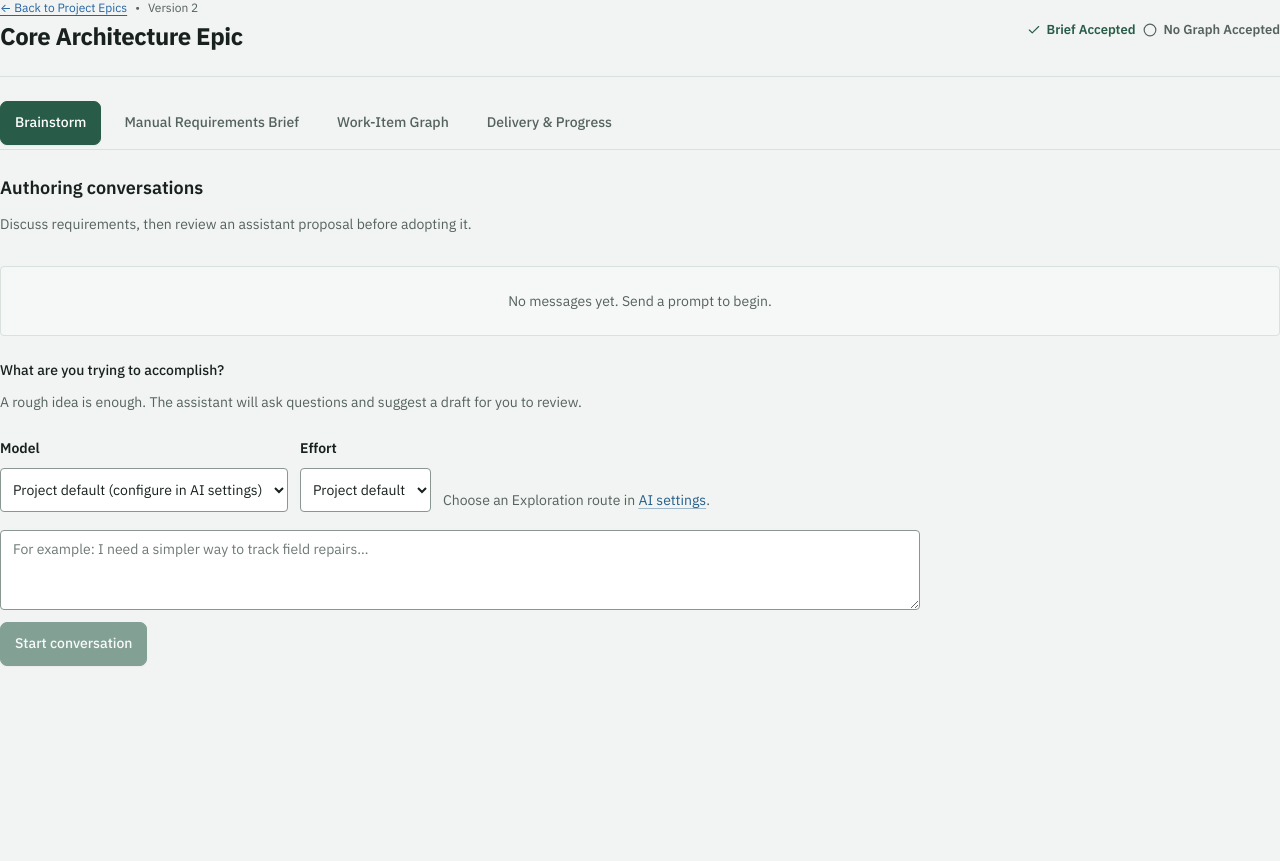
it: Epics App Pages › /epics/[epicId] displays epic details and allows switching between workspace sections
expect the heading "Core Architecture Epic" is shown: met, box 0,20 -> 243,52
expect the button "Manual Requirements Brief" is shown: met, box 109,101 -> 314,145
// Switch to Work-Item Graph tab
Click the button "Work-Item Graph".
click(393, 123)  # box 322,101 -> 464,145
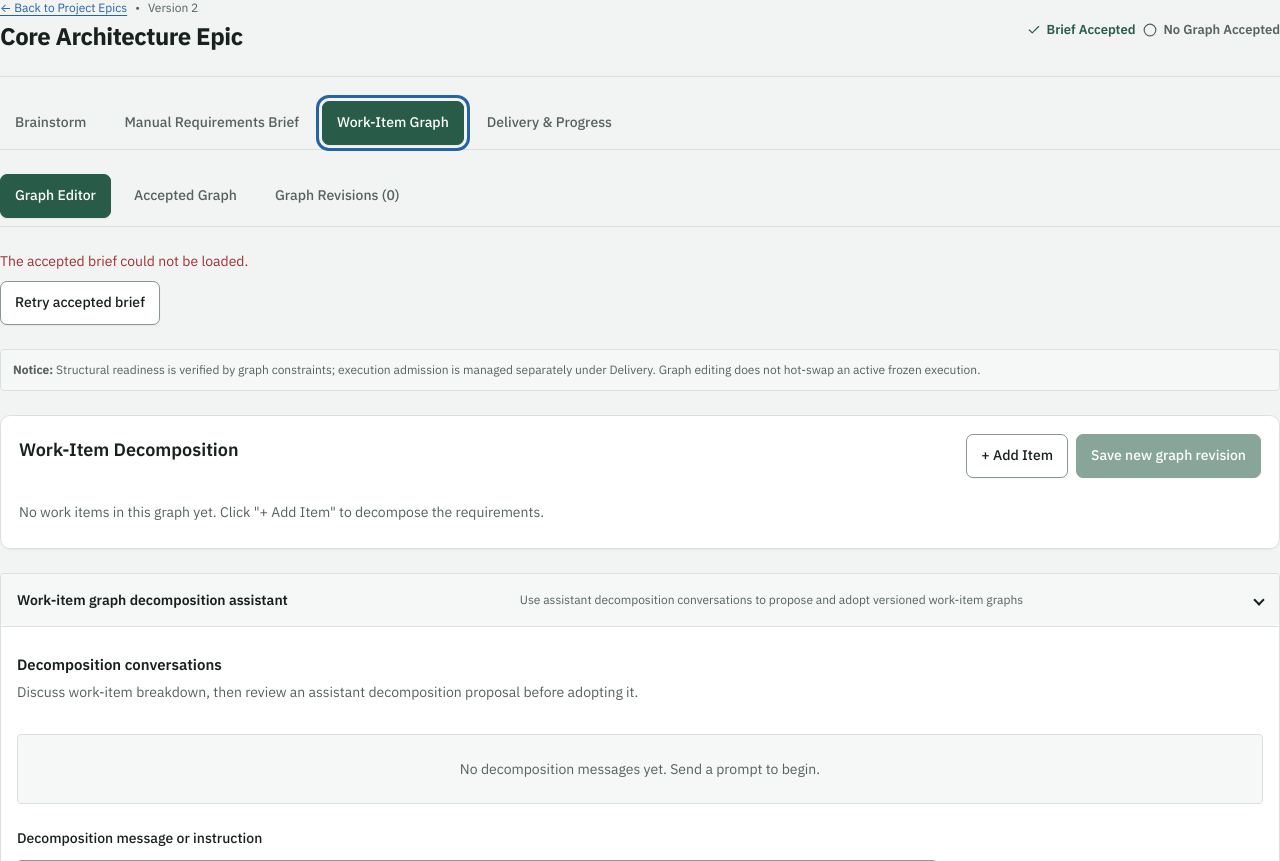
expect the heading "Work-Item Decomposition" is shown: met, box 19,436 -> 238,464
// Switch to Delivery & Progress tab
Click the button "Delivery & Progress".
click(549, 123)  # box 472,101 -> 627,145
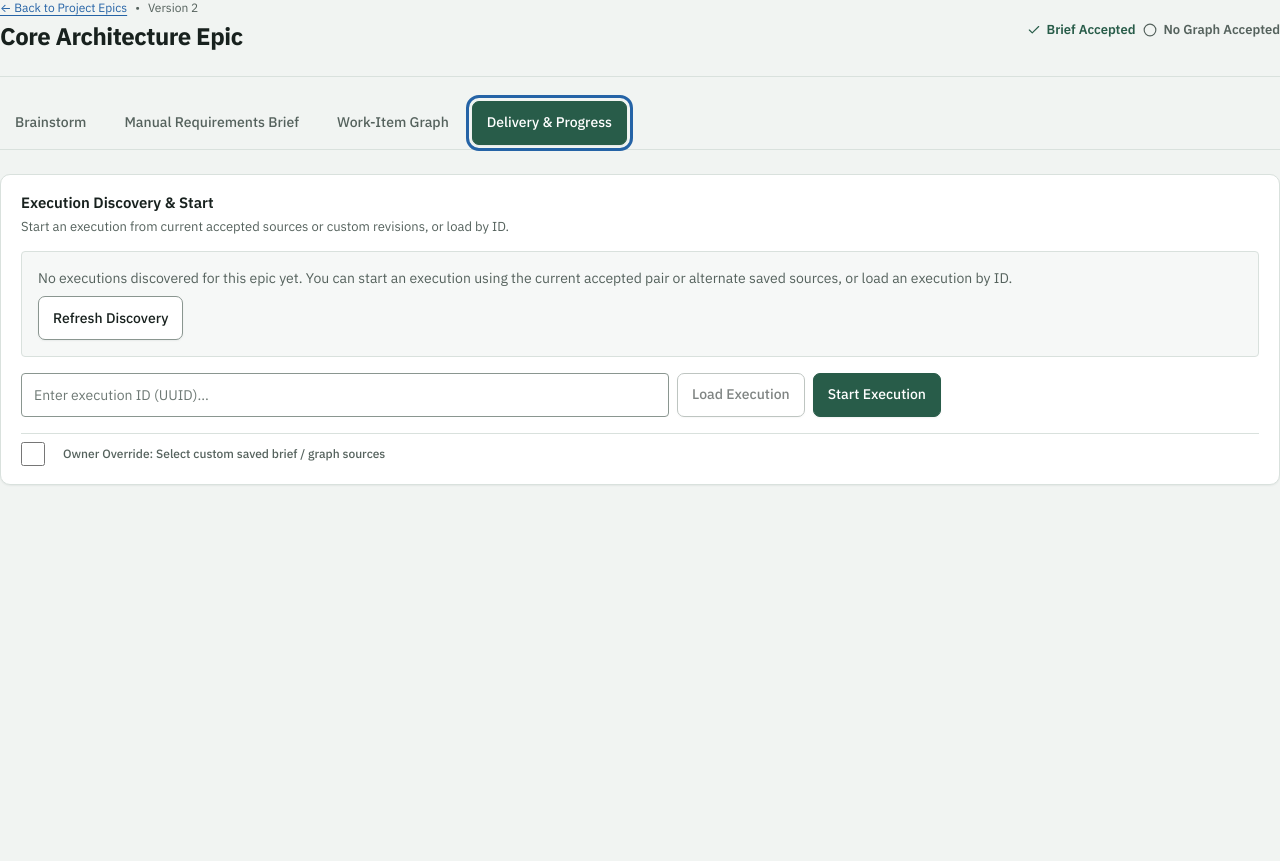
expect the heading "Execution Discovery & Start" is shown: met, box 21,193 -> 214,212
Click the button "Manual Requirements Brief".
click(212, 123)  # box 109,101 -> 314,145
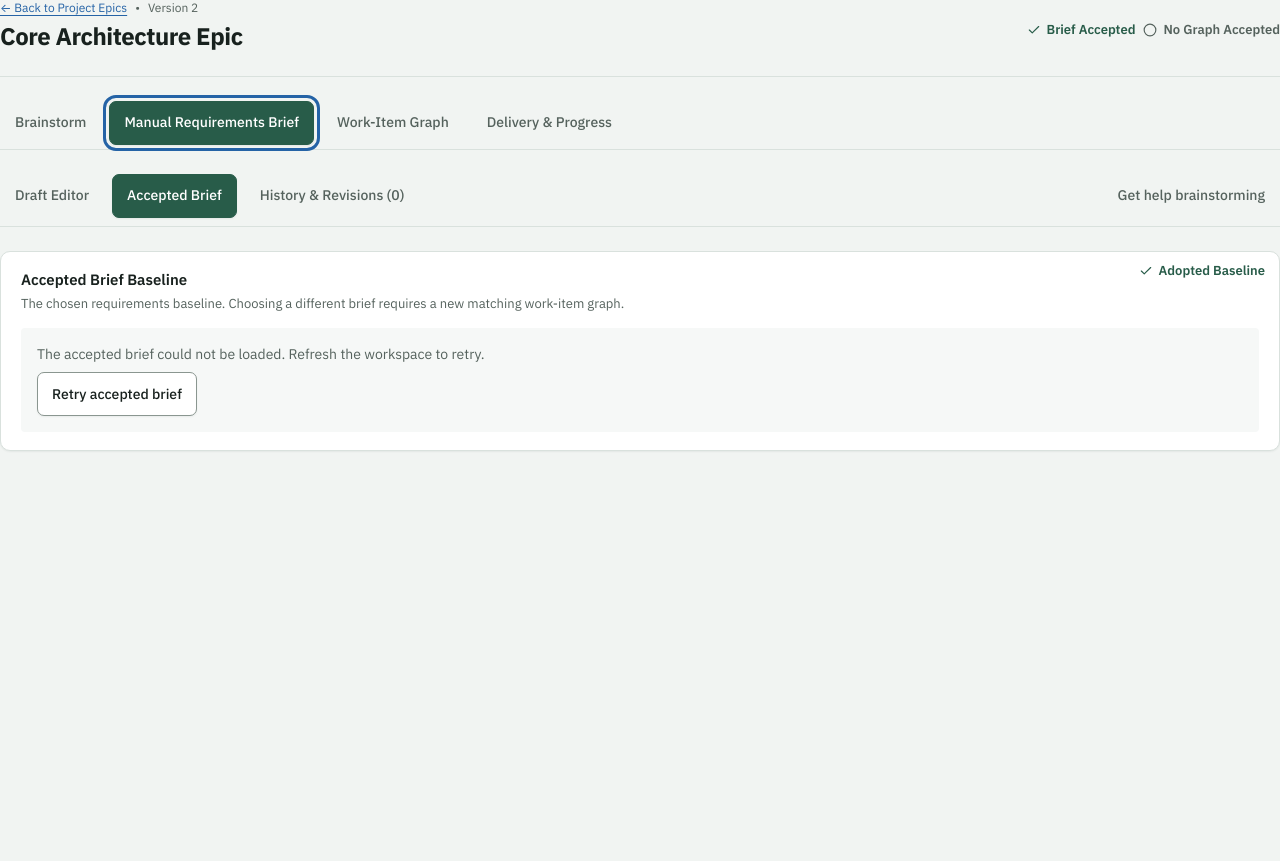
Click the button "Get help brainstorming".
click(1191, 196)  # box 1103,174 -> 1279,218
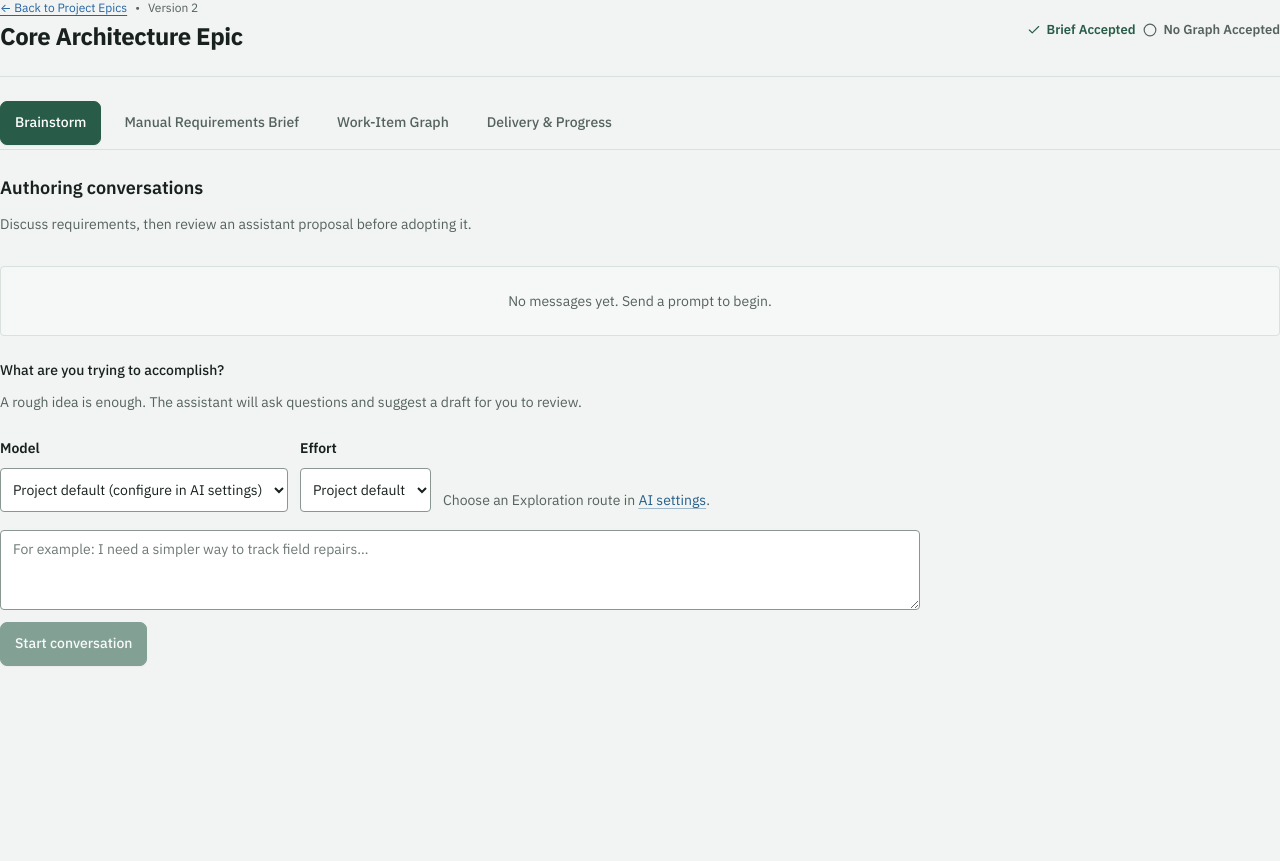
expect the text box labelled "What are you trying to accomplish?" is shown: met, box 0,530 -> 920,610
